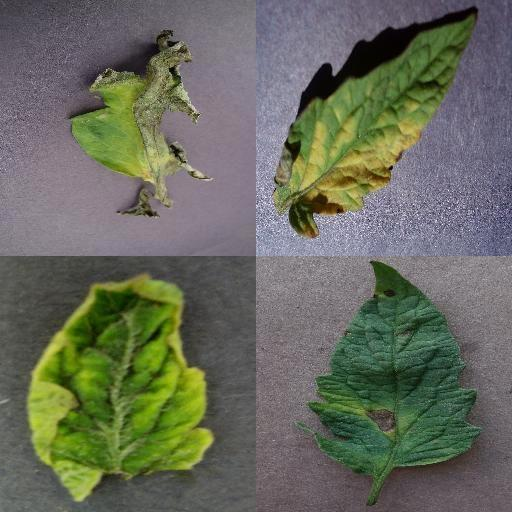Early Blight: (300, 260, 482, 474)
Late Blight: (67, 29, 209, 217)
Leaf Mold: (273, 9, 479, 239)
Yellow Leaf Curl Virus: (26, 271, 216, 503)
